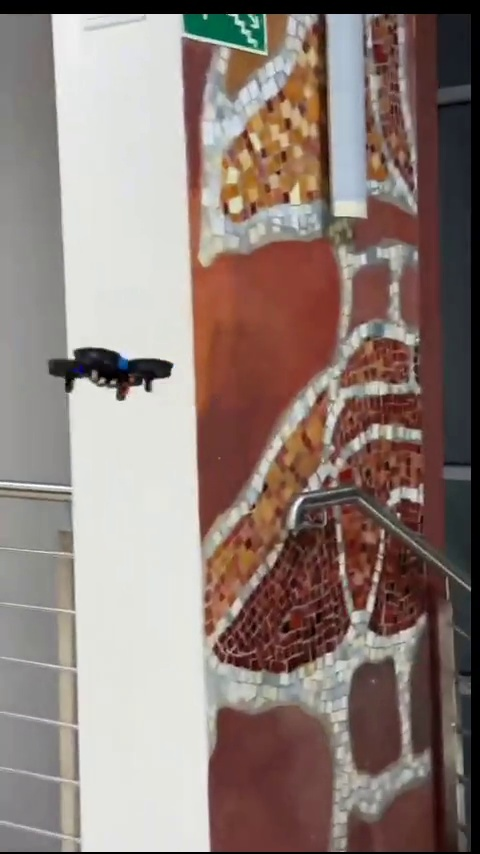drone: (56, 348, 174, 399)
